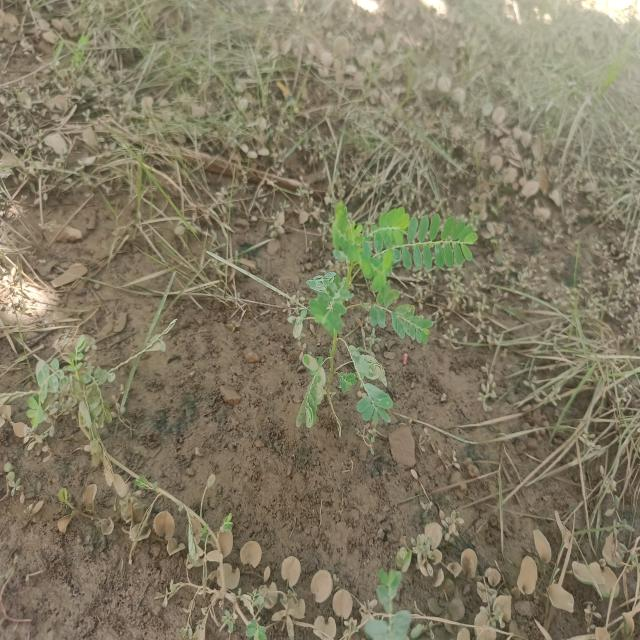weed: (285, 204, 492, 433), (33, 341, 114, 439)
